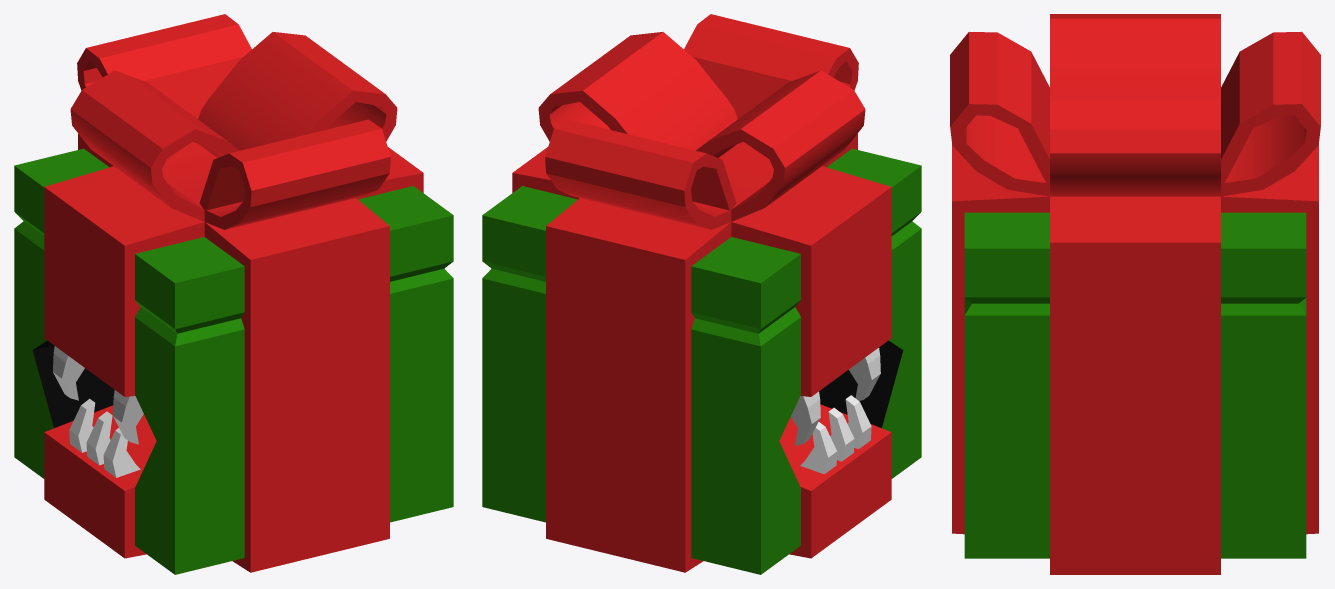
The model's file is Mimic-1.glb.
3 views of the same model, side by side, from view 1: azimuth 30°, elevation 25°; view 2: azimuth 150°, elevation 25°; view 3: azimuth 270°, elevation 25° (orthographic). The views are drawn at different scales.
Parts seen in each view (by area): view 1: Mimic-1; view 2: Mimic-1; view 3: Mimic-1.
Part boxes in pixels (<box>): Mimic-1: <box>14,14,453,574</box>; Mimic-1: <box>482,14,921,574</box>; Mimic-1: <box>950,14,1320,574</box>.
Size of the model in its own units: 1.02 by 1.36 by 1.03.
